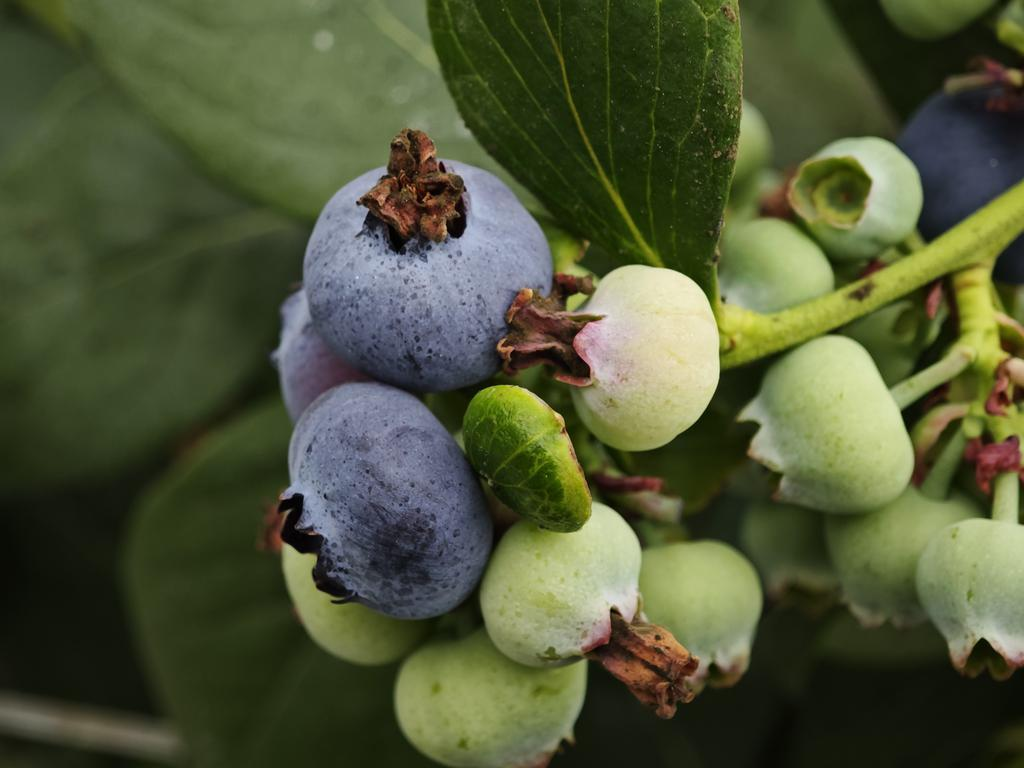RipeBlueBerry: (297, 142, 557, 397), (274, 377, 499, 627)
UnripeBlueBerry: (549, 259, 724, 458)
